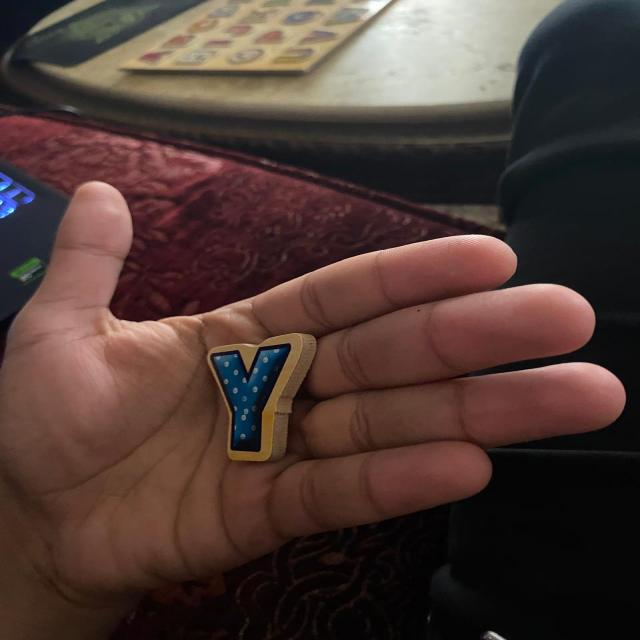Y: (207, 333, 314, 461)
